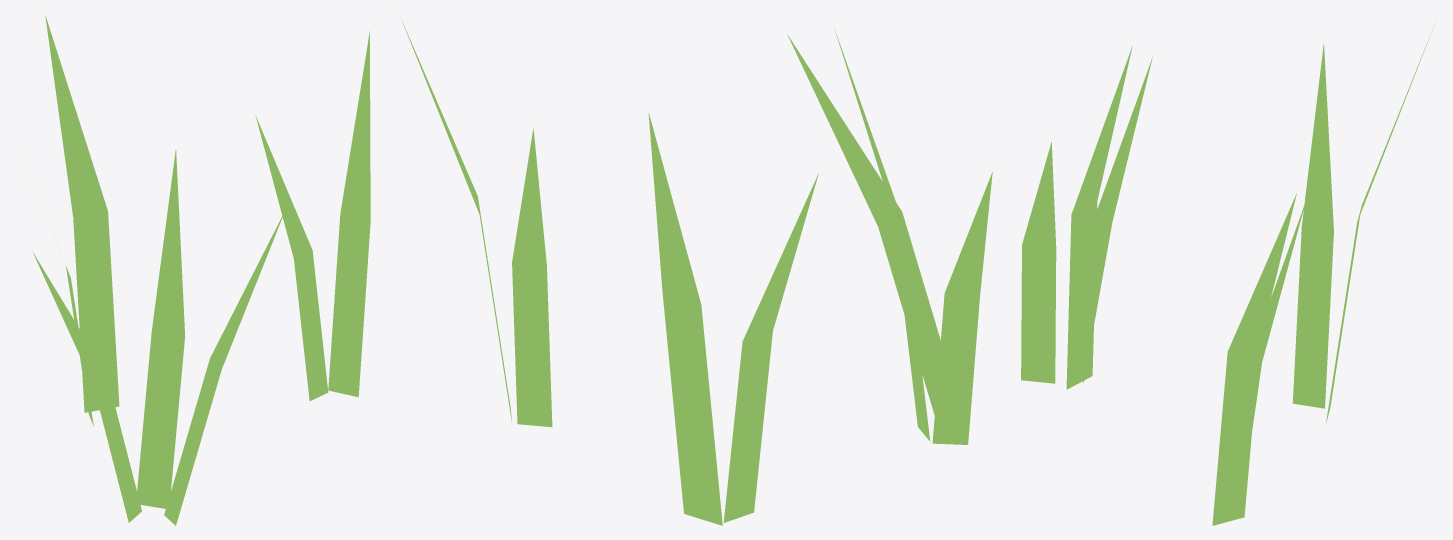
Rendered from Grass_b_OneS_06.fbx.
3 renders of one model, left to right at view 1: azimuth 30°, elevation 25°; view 2: azimuth 150°, elevation 25°; view 3: azimuth 270°, elevation 25°, orthographic. The views are drawn at different scales.
Visible parts, largest first — view 1: Grass_b_OneS_06; view 2: Grass_b_OneS_06; view 3: Grass_b_OneS_06.
Part boxes in pixels (x1,y1,x2,y2): Grass_b_OneS_06: [33, 15, 370, 525]; Grass_b_OneS_06: [400, 17, 992, 525]; Grass_b_OneS_06: [1021, 25, 1434, 525].
Bounding box in the file's own units: 0.5475 × 0.4746 × 0.4444.
